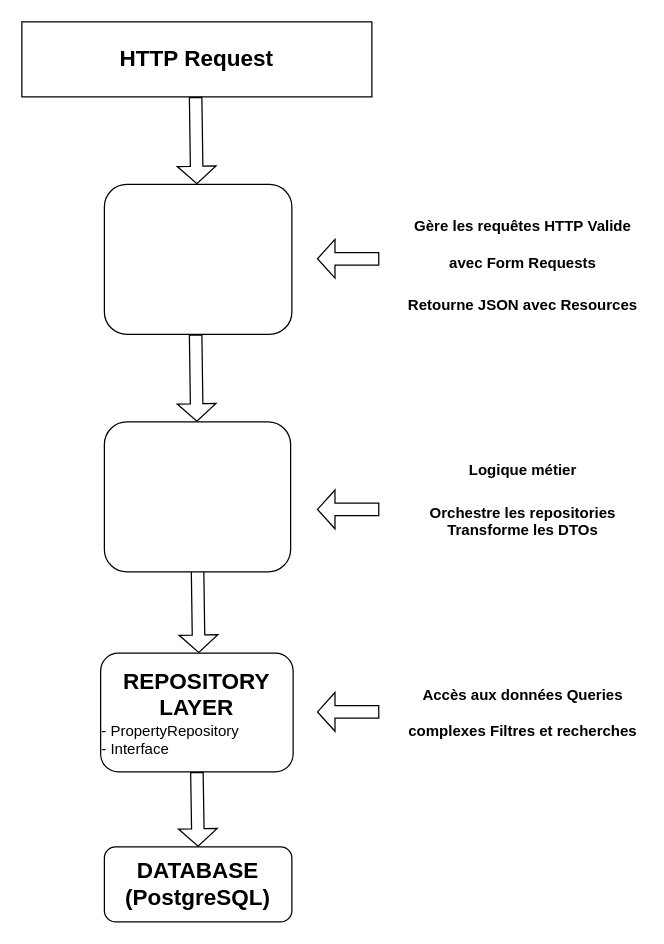
This 664x944 diagram has some shape labels left out. Here are the shapes that lost their labels. From the top down, the centre of each, then its label:
At [197,258]: "CONTROLLER LAYER - PropertyController - AuthController - ImageController".
At [197,496]: "SERVICE LAYER - PropertyService".
